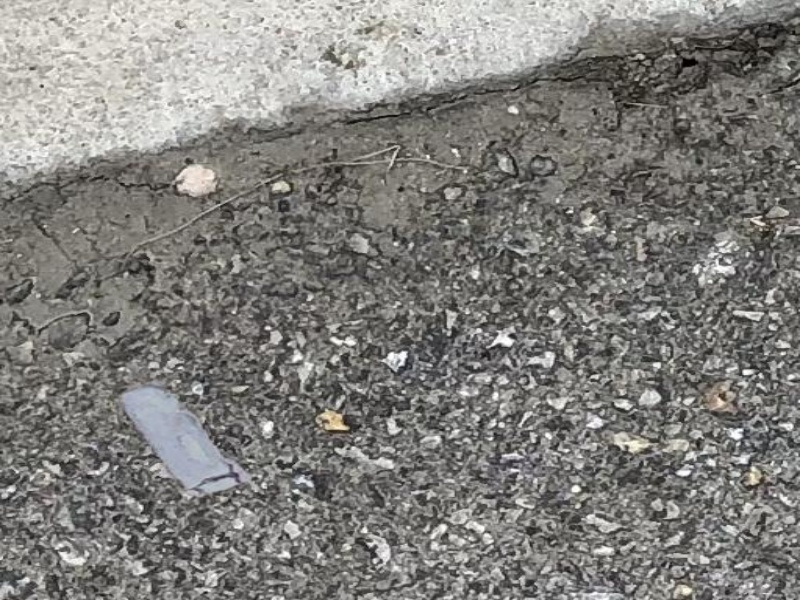cig: (115, 378, 266, 507)
